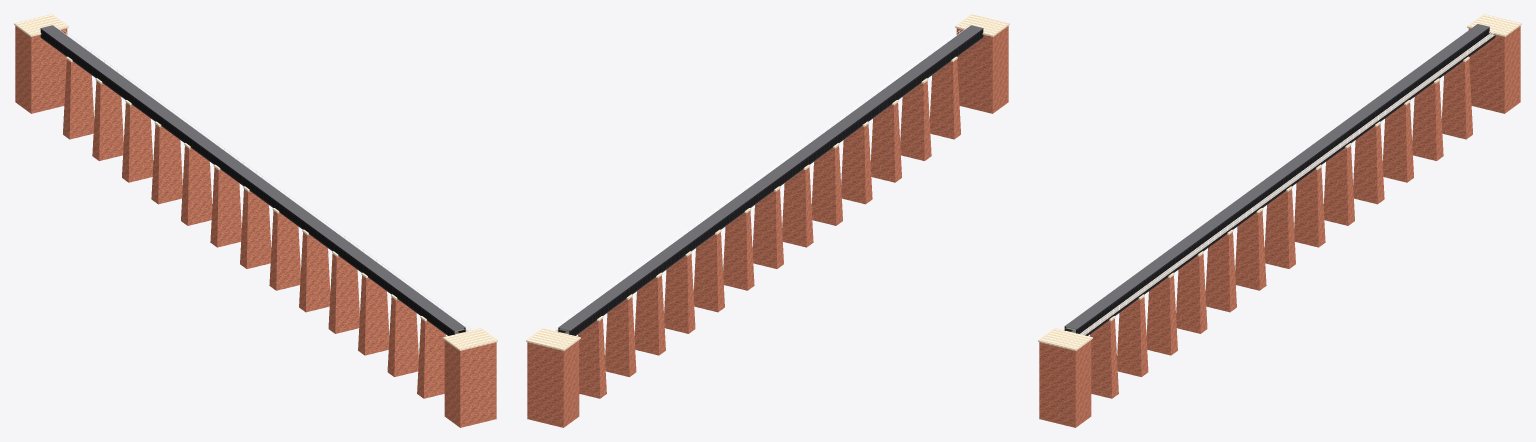
Rendered from edstone.glb.
3 views of the same model, side by side, from view 1: azimuth 30°, elevation 25°; view 2: azimuth 150°, elevation 25°; view 3: azimuth 330°, elevation 25° (orthographic).
Parts seen in each view (by area): view 1: Pier, TroughFloor, TroughSide, PierCap, RailPost; view 2: Pier, TroughFloor, TroughSide, PierCap, RailPost; view 3: Pier, TroughFloor, TroughSide, Towpath, PierCap, RailPost.
Part boxes in pixels (x1,y1,x2,y2): Pier: [15, 26, 496, 427]; TroughFloor: [40, 25, 465, 335]; TroughSide: [40, 29, 465, 335]; PierCap: [14, 14, 497, 350]; RailPost: [58, 26, 471, 330]; Pier: [527, 26, 1008, 427]; TroughFloor: [558, 25, 983, 335]; TroughSide: [558, 29, 983, 335]; PierCap: [526, 14, 1009, 350]; RailPost: [553, 26, 966, 330]; Pier: [1039, 26, 1520, 427]; TroughFloor: [1064, 24, 1489, 332]; TroughSide: [1064, 27, 1495, 335]; Towpath: [1080, 34, 1494, 335]; PierCap: [1038, 14, 1521, 350]; RailPost: [1081, 30, 1494, 334].
Size of the model in its own units: 8.34 by 18.11 by 169.
Materials: 7 (4 with a texture image).
